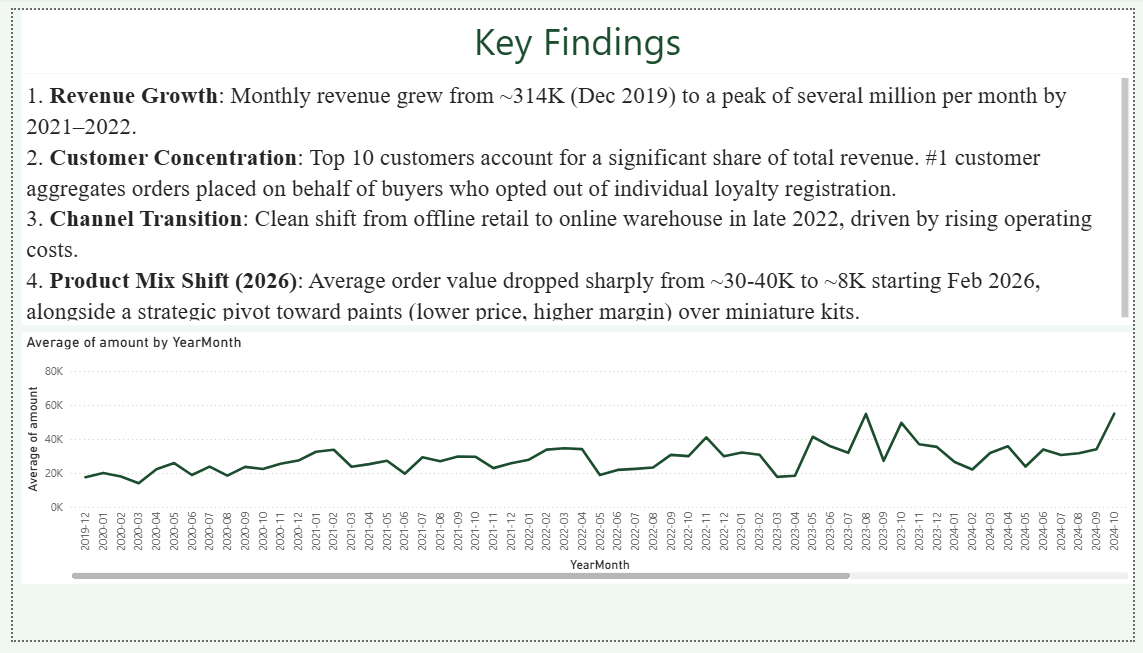

The page's visual inventory and layout, read from the dashboard file:
{"tool":"powerbi","page":{"name":"Key Insights","canvas":[1280,720],"ordinal":2},"visuals":[{"type":"textbox","box":[9.8,0,1270.5,72.1],"z":0},{"type":"textbox","box":[10,72.5,1270,287.5],"z":1000},{"type":"lineChart","fields":{"Category":["sales.YearMonth"],"Y":["Avg(sales.amount)"]},"box":[10,369,1270,287],"z":2000}]}

Visuals, with their boxes in screenshot pixels (x1, y1, x2, y2), scaled from the page's 1280x720 canvas onto the 1143x653 screenshot:
textbox: Rect(9, 0, 1142, 65)
textbox: Rect(9, 66, 1142, 326)
lineChart - sales.YearMonth x Avg(sales.amount): Rect(9, 335, 1142, 595)
